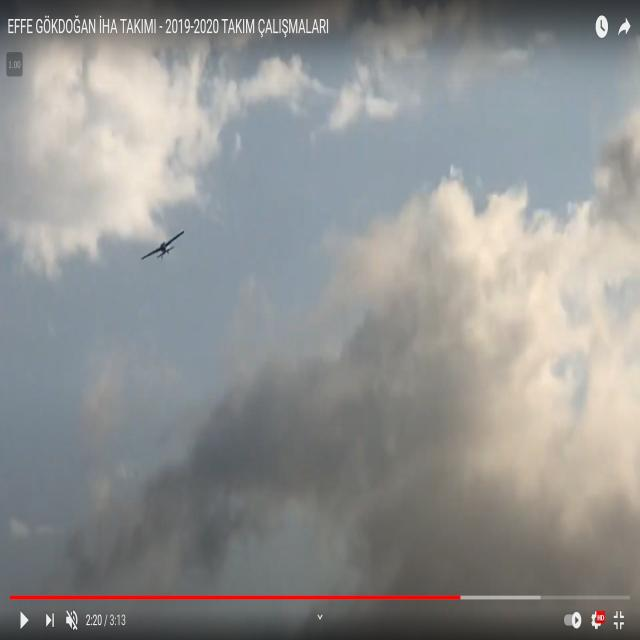iha: (141, 229, 184, 263)
